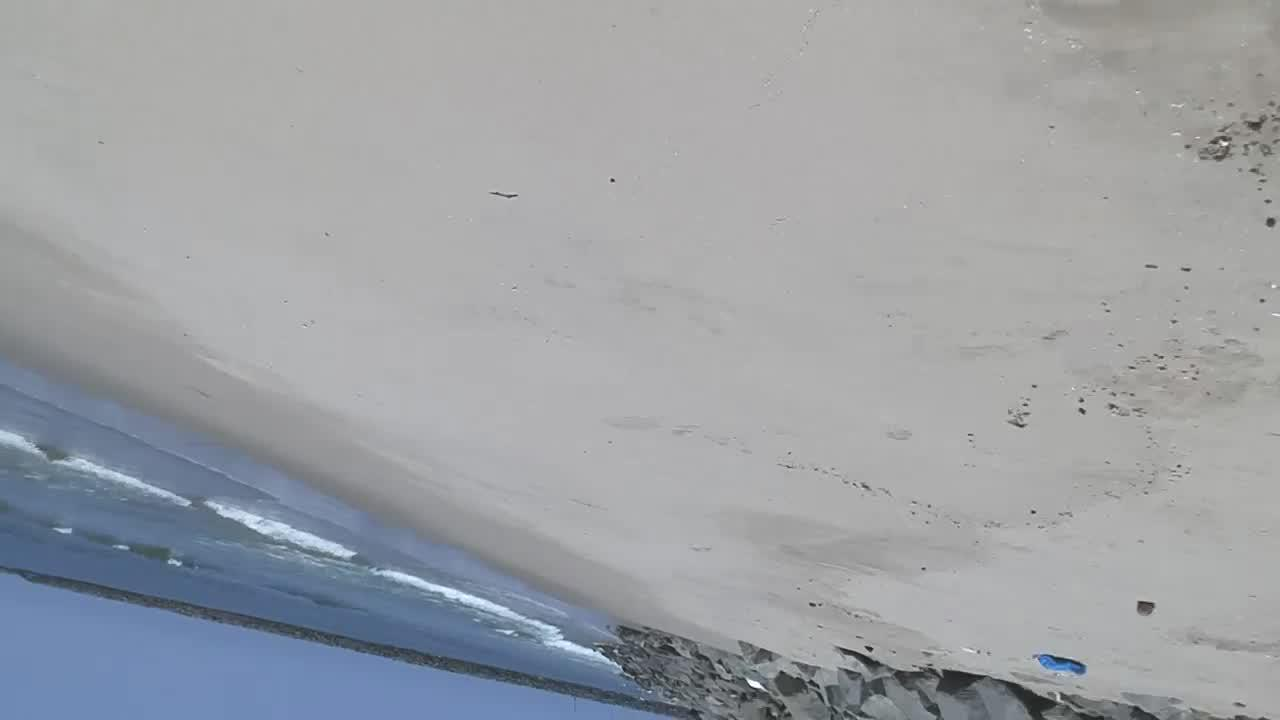obj: (1032, 652, 1086, 679), (1135, 598, 1158, 617)
sand/background: (0, 365, 1279, 719)
